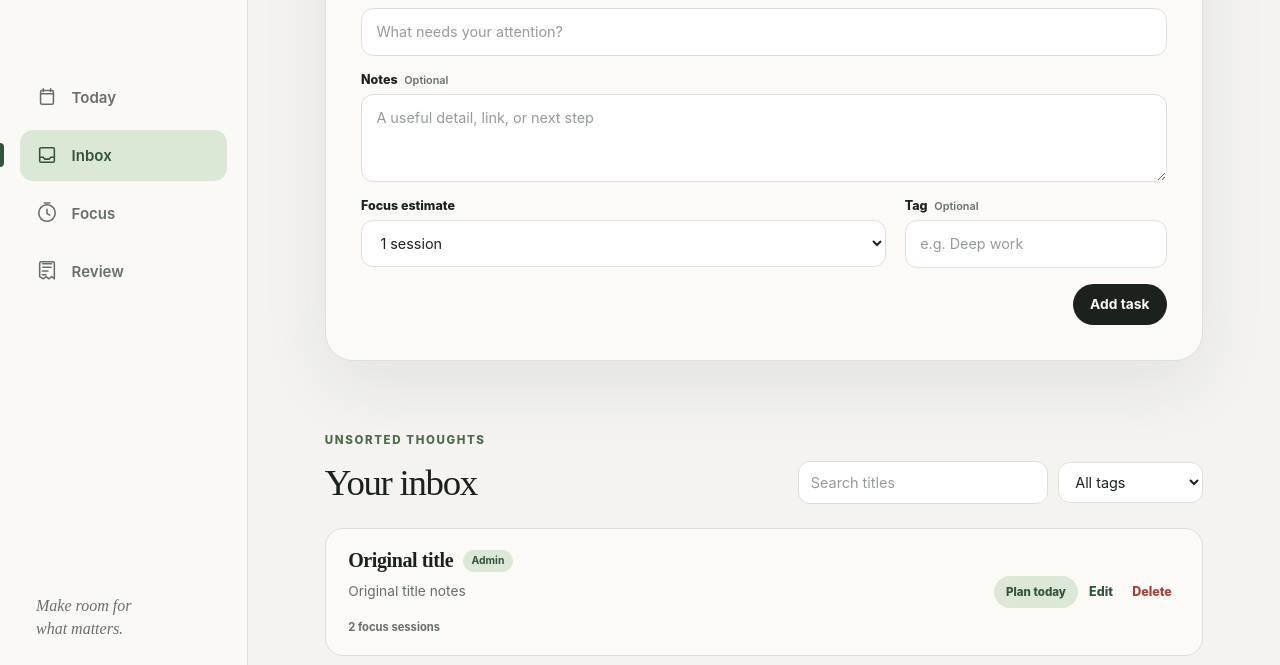
Scenario: Inbox workspace › edits every user-editable field while preserving identity and creation time
(page scrolled)
Click the button named "Edit Original title": x=1101, y=592 [1081,576,1121,608]
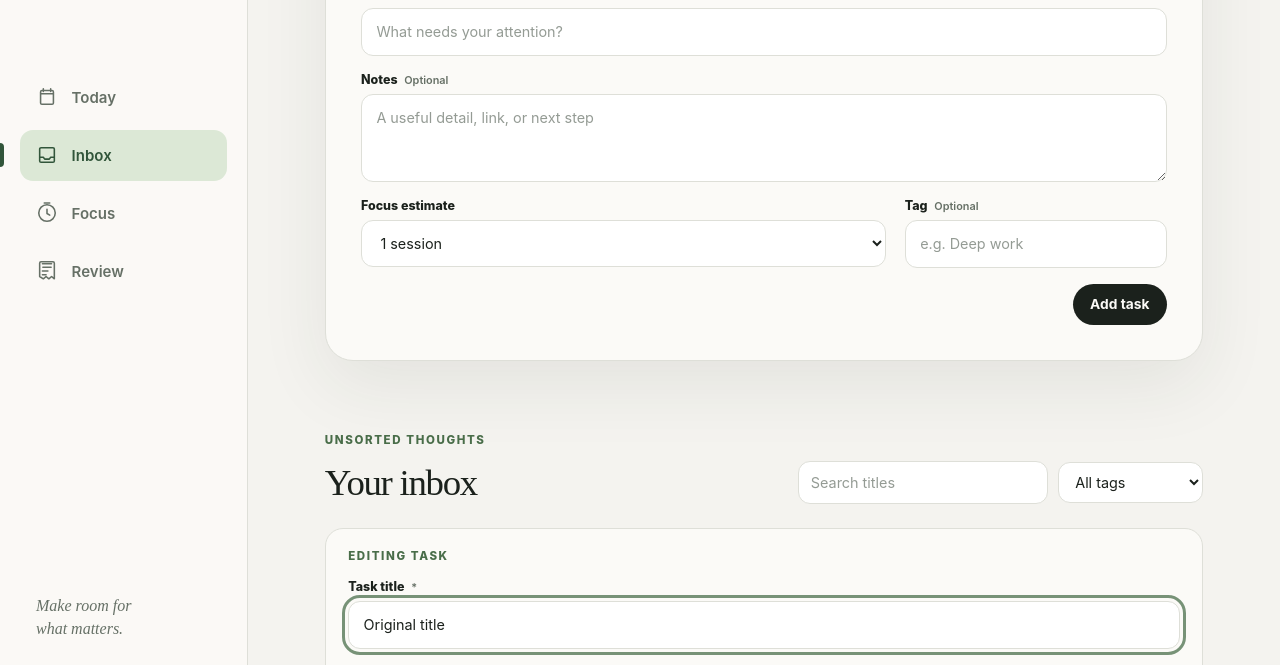
Replace the text in the field labelled "Task title" below "Editing task" with "Updated title": x=764, y=625 [348,601,1180,649]
(page scrolled)
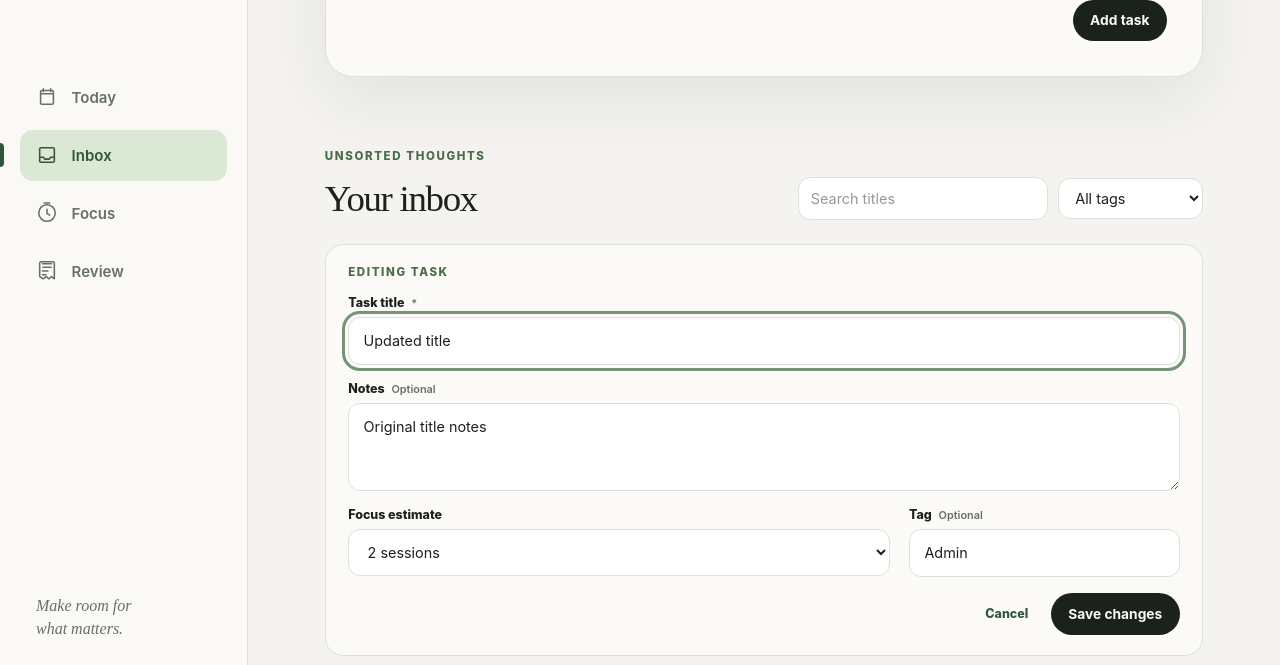
Replace the text in the text box labelled "Notes" with "Updated notes": x=764, y=447 [348,403,1180,491]
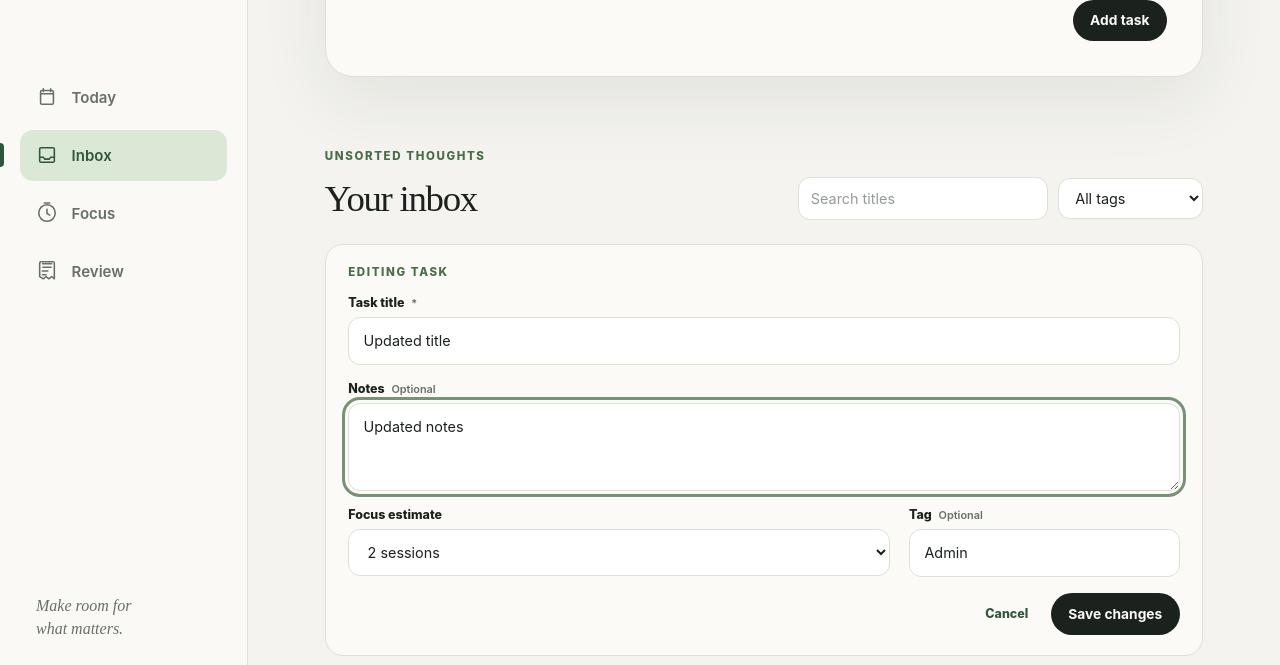
Select "5 sessions" in the dropdown labelled "Focus estimate" below "Editing task": x=619, y=553 [348,529,890,576]
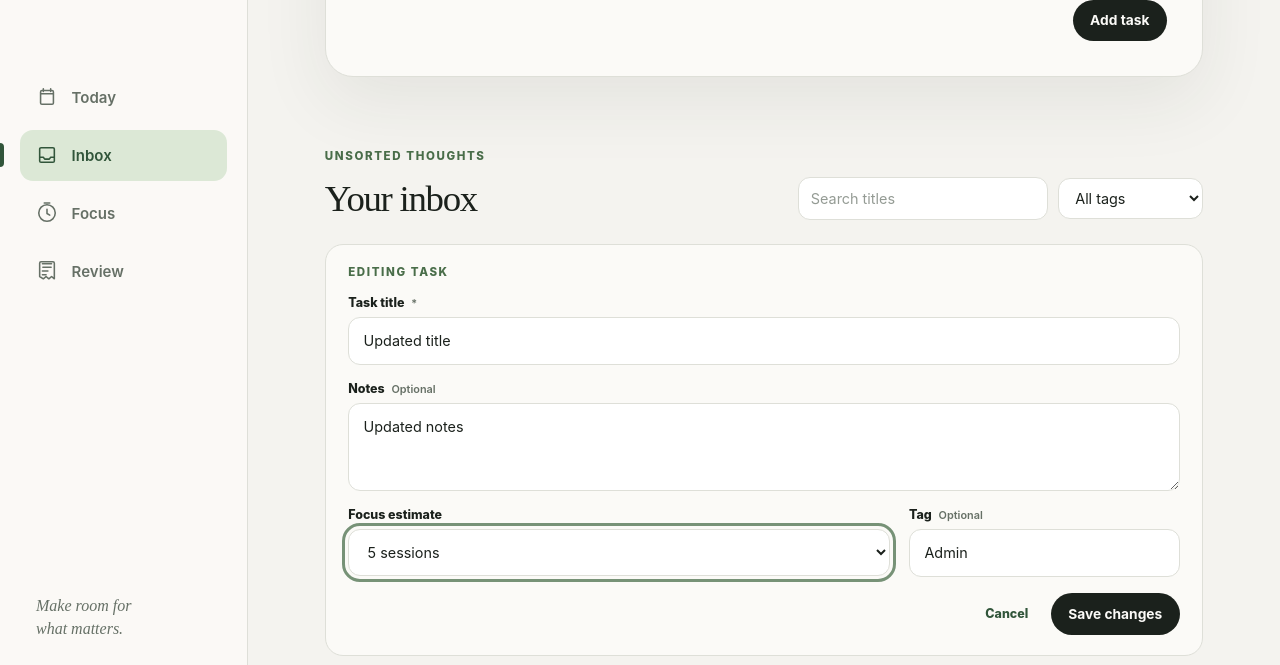
Replace the text in the 2nd field labelled "Tag" with "Creative": x=1044, y=553 [909,529,1180,577]
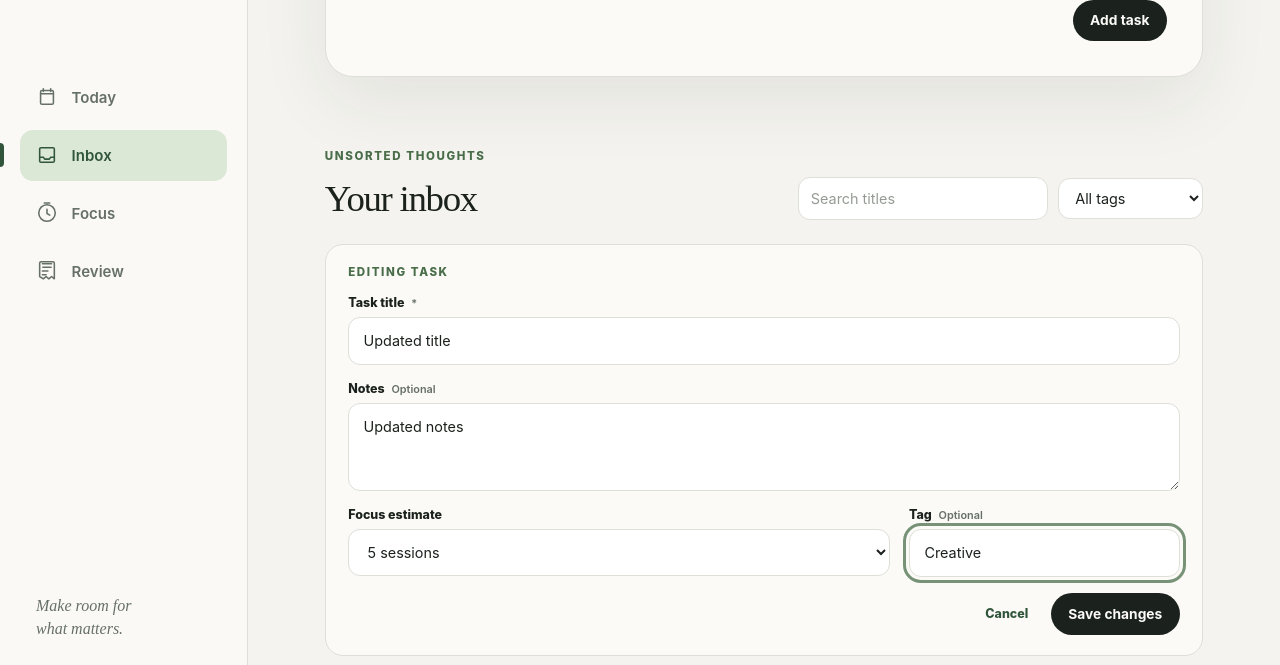
Click the button "Save changes": x=1115, y=614 [1051,593,1180,635]
(page scrolled)
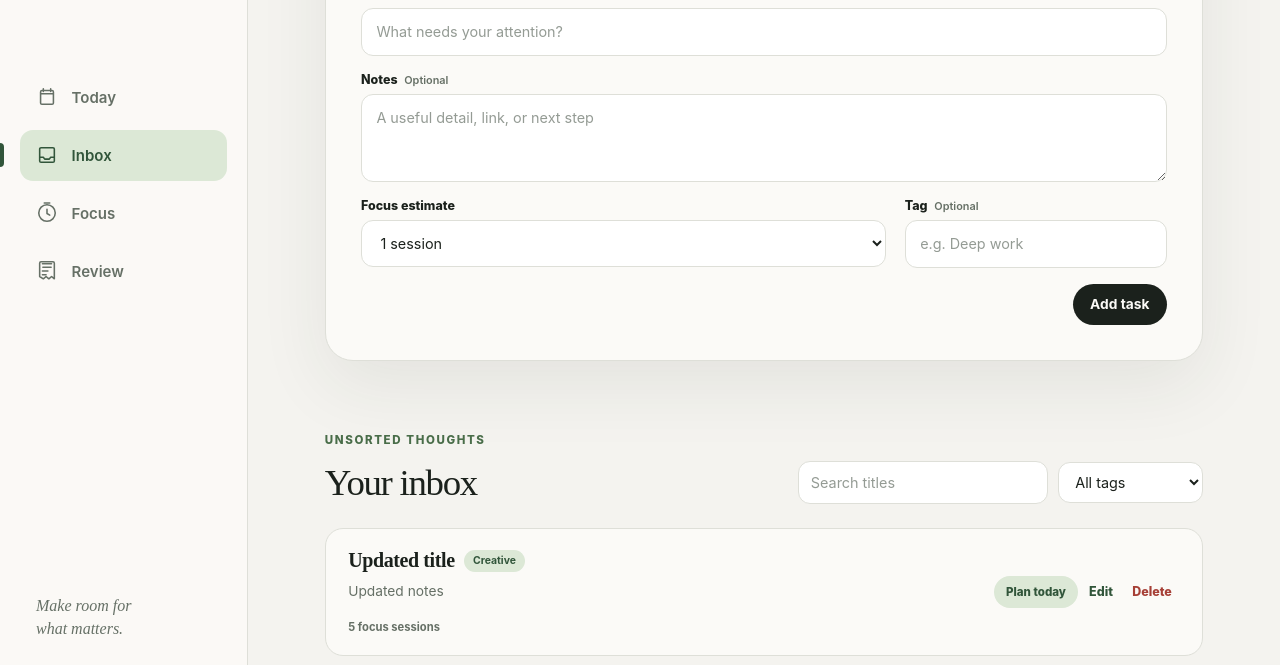
Check: the heading "Updated title" is shown, box [348,549,455,572]
